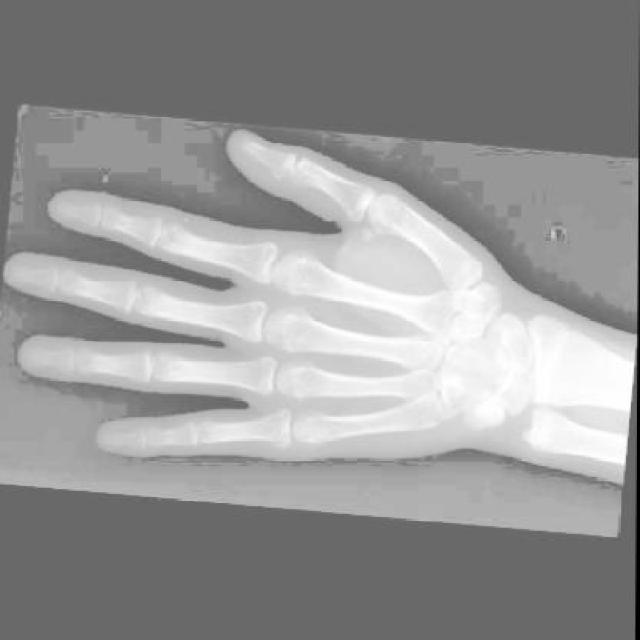Fracture: (268, 434, 287, 451)
